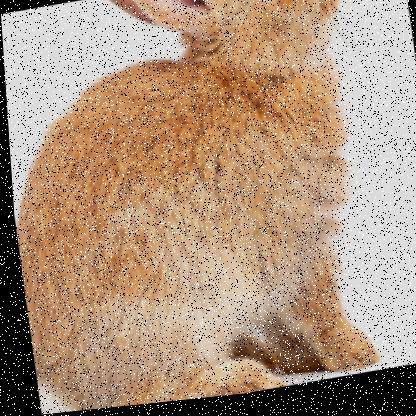rabbit: (0, 0, 406, 415)
